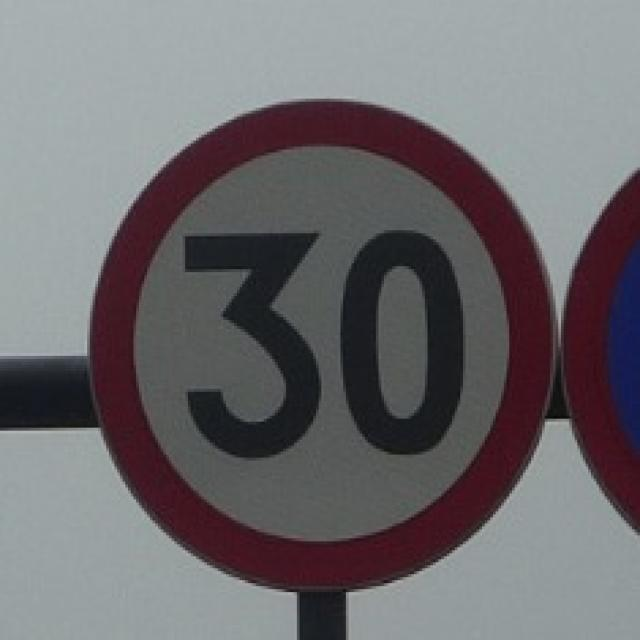Speed Limit -30-: (182, 226, 474, 463)
